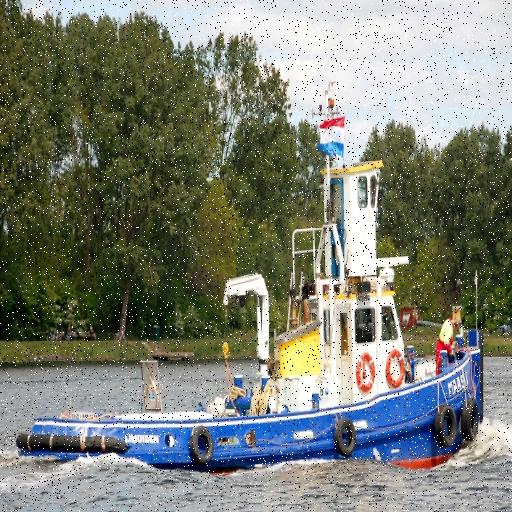tugboat: (13, 113, 488, 485)
